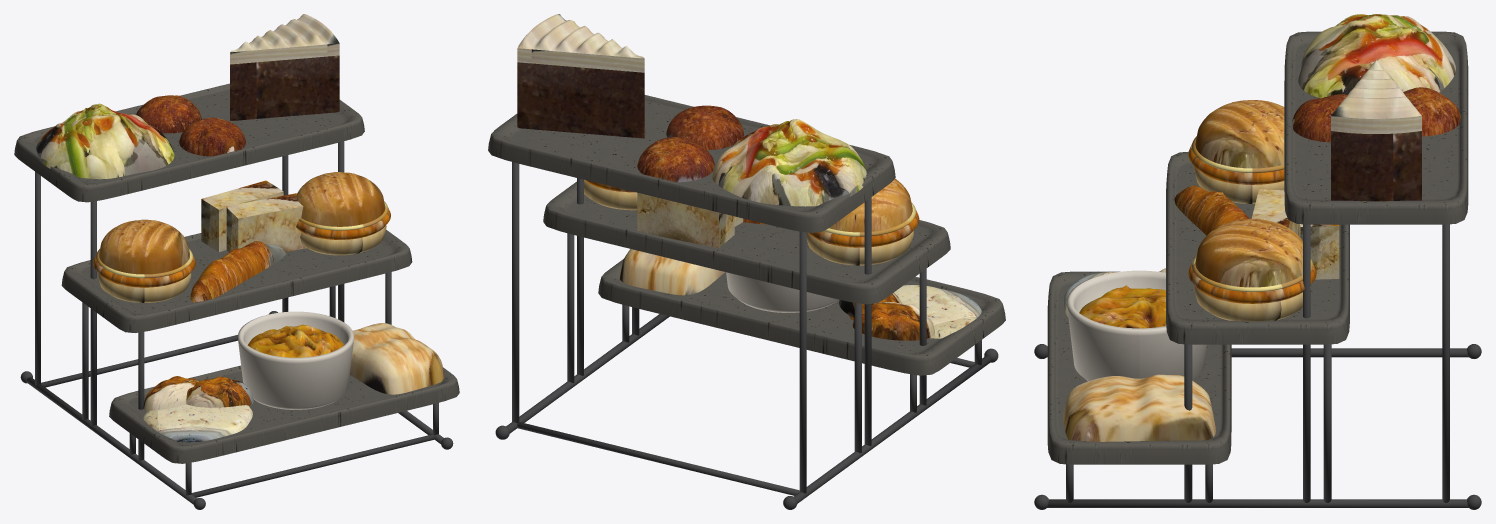
Rendered from hi-tea-platter.glb.
3 renders of one model, left to right at view 1: azimuth 30°, elevation 25°; view 2: azimuth 150°, elevation 25°; view 3: azimuth 270°, elevation 25°, orthographic. The views are drawn at different scales.
Parts seen in each view (by area): view 1: part_1, part_0, part_13, part_7, part_23, part_26, part_9, part_19, part_27, part_4, part_18, part_10 (+8 smaller); view 2: part_1, part_0, part_23, part_26, part_27, part_19, part_9, part_24, part_10, part_25, part_4, part_7 (+3 smaller); view 3: part_1, part_0, part_13, part_23, part_9, part_7, part_26, part_27, part_10, part_8, part_11, part_18 (+5 smaller).
Part boxes in pixels (x1,y1,x2,y2): part_1: (14,83,459,463); part_0: (20,141,453,509); part_13: (99,172,385,274); part_7: (238,311,353,409); part_23: (36,103,174,179); part_26: (230,55,339,120); part_9: (350,323,444,394); part_19: (201,191,306,252); part_27: (230,14,339,64); part_4: (143,404,252,442); part_18: (190,241,285,303); part_10: (97,225,386,302); part_1: (488,95,1005,375); part_0: (495,162,998,509); part_23: (712,119,866,206); part_26: (517,62,644,138); part_27: (517,14,644,72); part_19: (637,192,743,248); part_9: (620,249,724,295); part_24: (637,137,714,182); part_10: (584,180,913,265); part_25: (666,105,743,149); part_4: (849,285,981,338); part_7: (726,272,838,312); part_1: (1047,31,1468,464); part_0: (1034,224,1481,509); part_13: (1195,100,1302,287); part_23: (1298,14,1455,98); part_9: (1063,374,1215,441); part_7: (1067,270,1207,381); part_26: (1331,131,1421,201); part_27: (1331,60,1421,133); part_10: (1194,166,1310,321); part_8: (1079,285,1166,328); part_11: (1188,144,1316,303); part_18: (1174,185,1249,235).
Bounding box in the file's own units: 0.3 × 0.3225 × 0.321.
20 materials, 19 textured.
